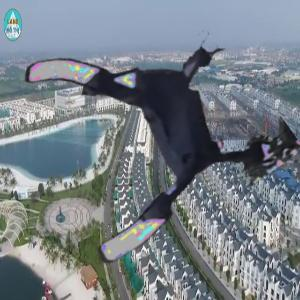drone: (28, 8, 261, 241)
